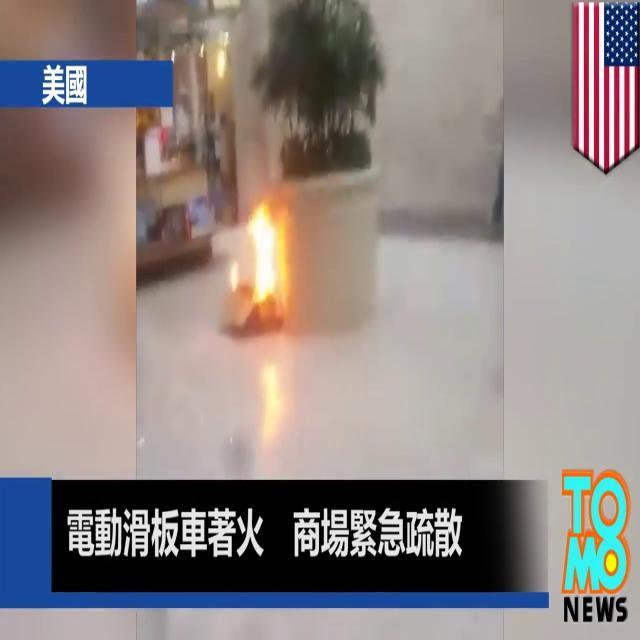Fire: (244, 198, 284, 309)
Smoke: (220, 1, 296, 196)
